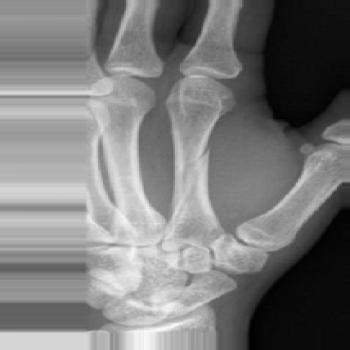Fracture: (180, 146, 218, 178)
